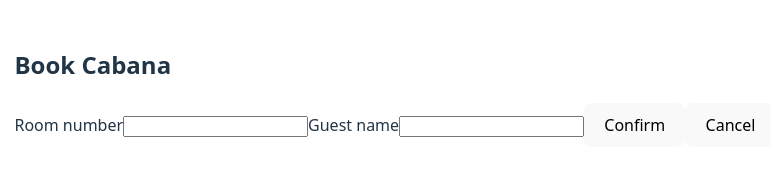
BookingForm failed submission › shows the error message returned by the server
The width and height of the screenshot is (771, 188).
Type "999" into the field labelled "Room number". click: (216, 126)
box: top-left (123, 116), bottom-right (308, 137)
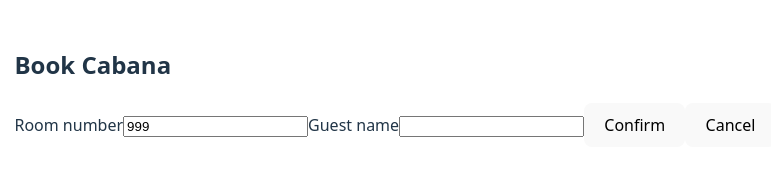
Type "Unknown" into the field labelled "Guest name". click: (492, 126)
box: top-left (399, 116), bottom-right (584, 137)
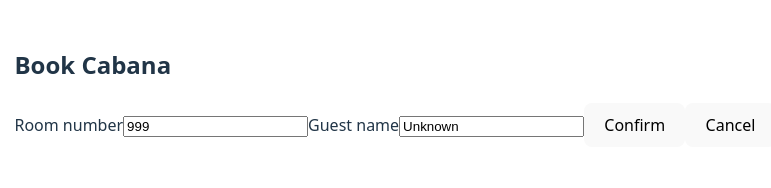
Click the button "Confirm". click: (635, 125)
box: top-left (584, 103), bottom-right (685, 146)
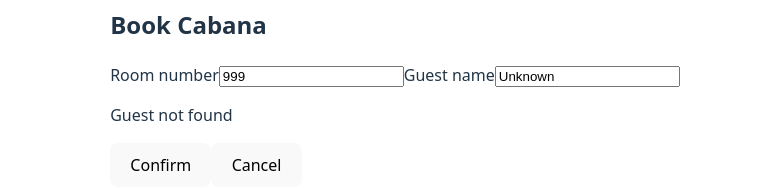
Now the message reads "Guest not found", box top-left (110, 104), bottom-right (233, 126)
